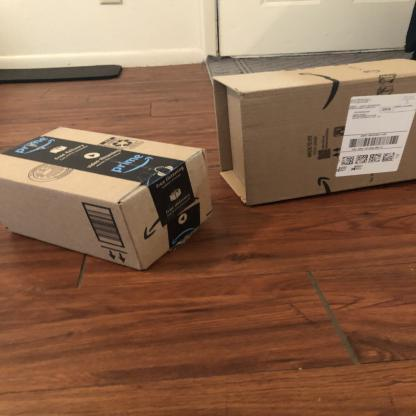package: (0, 123, 217, 277), (210, 54, 416, 212)
